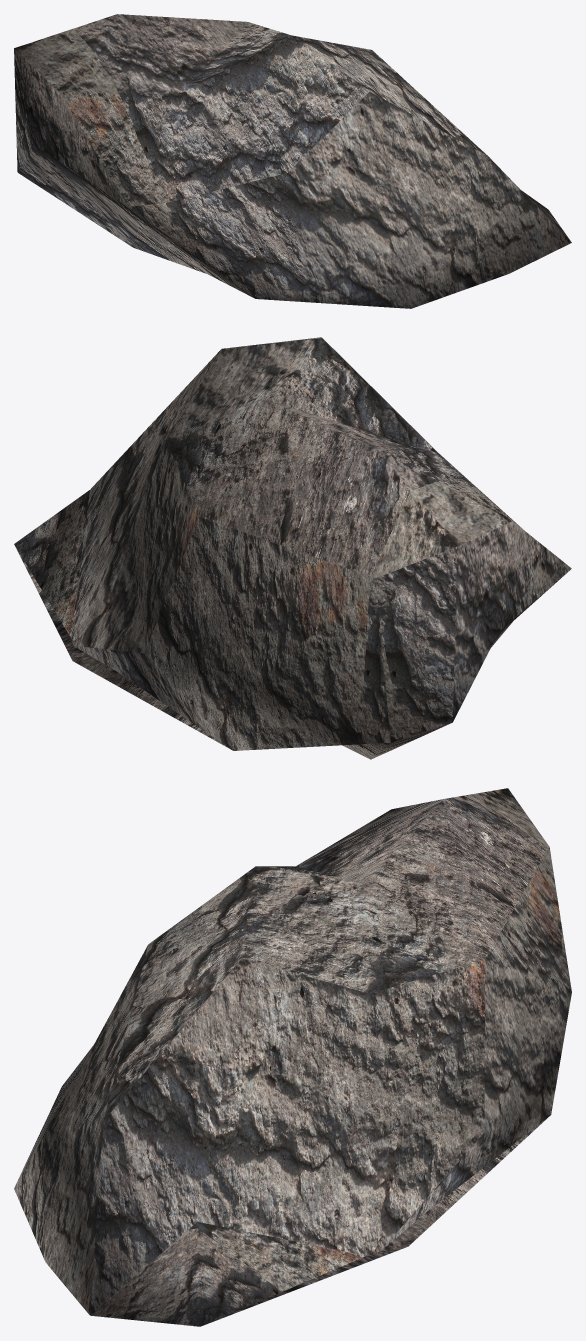
Rendered from Roca1.FBX.
The picture shows the model from 3 angles, top to bottom: view 1: azimuth 30°, elevation 25°; view 2: azimuth 150°, elevation 25°; view 3: azimuth 270°, elevation 25°; orthographic projection. The views are drawn at different scales.
Visible parts, largest first — view 1: GeoSphere002; view 2: GeoSphere002; view 3: GeoSphere002.
Part boxes in pixels (left/top/right/bottom): GeoSphere002: left=14, top=14, right=571, bottom=308; GeoSphere002: left=14, top=337, right=571, bottom=759; GeoSphere002: left=14, top=788, right=571, bottom=1326.
Size of the model in its own units: 27.06 by 13.18 by 22.17.
1 material, 1 textured.
